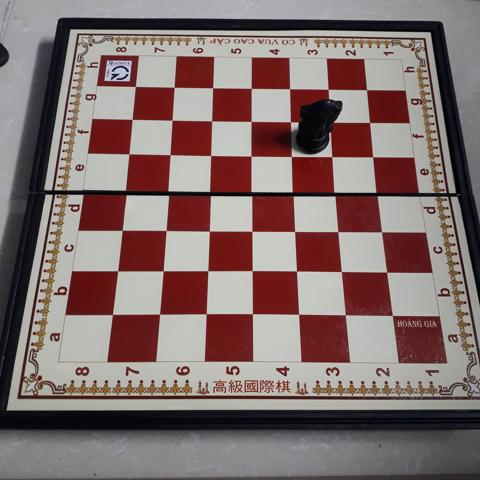xcorner: (117, 180, 134, 197), (104, 305, 121, 321), (152, 305, 168, 322), (386, 306, 402, 323), (200, 261, 217, 277), (381, 262, 397, 279), (113, 219, 130, 235), (246, 220, 262, 237), (376, 221, 392, 238), (203, 181, 219, 198), (245, 182, 262, 198), (121, 144, 138, 160), (327, 146, 343, 163), (367, 147, 384, 163), (360, 81, 376, 98), (199, 306, 215, 322), (246, 306, 262, 322), (293, 306, 309, 322), (340, 306, 356, 322), (109, 261, 125, 277), (155, 261, 171, 277), (246, 262, 262, 278), (291, 262, 307, 278), (336, 262, 352, 278), (158, 220, 174, 236), (202, 220, 218, 236), (289, 221, 305, 237), (333, 221, 349, 237), (160, 181, 176, 197), (288, 182, 304, 198), (330, 183, 346, 199), (372, 183, 388, 199), (163, 145, 179, 161), (204, 145, 220, 161), (245, 146, 261, 162), (286, 146, 302, 162), (125, 110, 141, 126), (165, 111, 181, 127), (205, 111, 221, 127), (245, 112, 261, 128), (285, 112, 301, 128), (324, 113, 340, 129), (364, 113, 380, 129), (128, 78, 144, 94), (167, 79, 183, 95), (206, 79, 222, 95), (245, 80, 261, 96), (283, 80, 299, 96), (322, 81, 338, 97)
